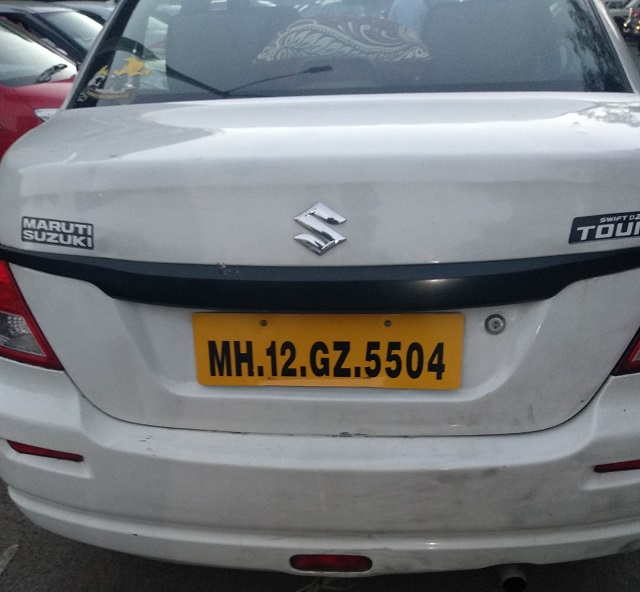licenseplate: (179, 303, 469, 394)
